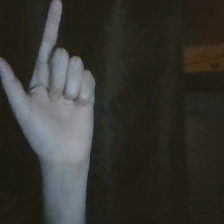L: (1, 1, 109, 168)
